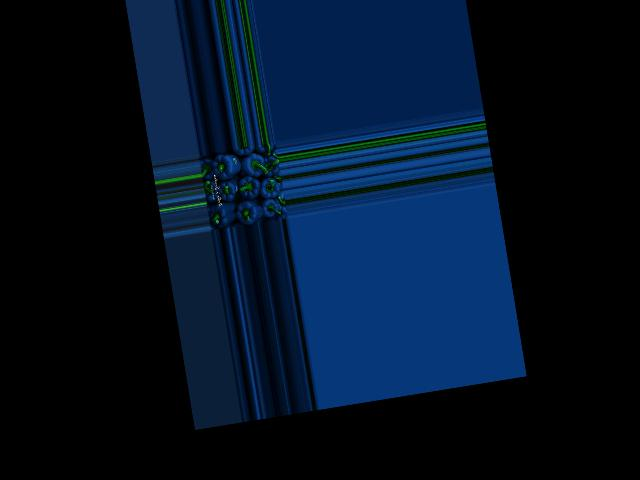bell_pepper: (198, 153, 218, 182)
